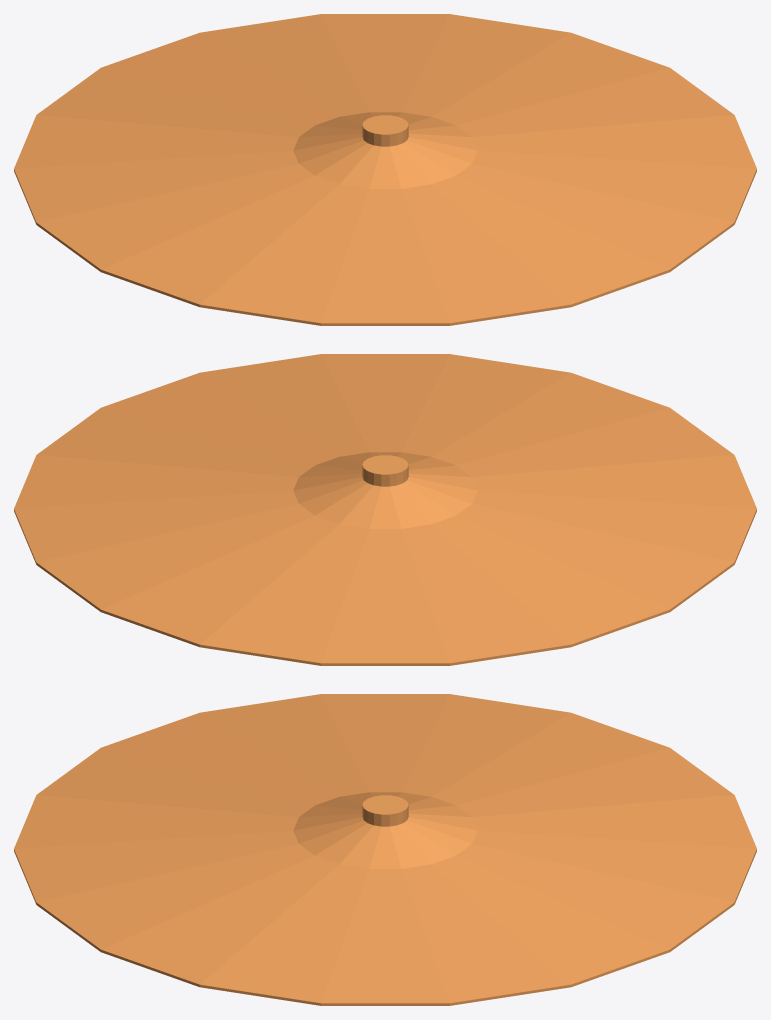
The picture shows the model from 3 angles, top to bottom: view 1: azimuth 30°, elevation 25°; view 2: azimuth 150°, elevation 25°; view 3: azimuth 270°, elevation 25°; orthographic projection.
Parts seen in each view (by area): view 1: Cylinder001; view 2: Cylinder001; view 3: Cylinder001.
Part boxes in pixels (left/top/right/bottom): Cylinder001: left=14, top=14, right=756, bottom=325; Cylinder001: left=14, top=354, right=756, bottom=665; Cylinder001: left=14, top=694, right=756, bottom=1005.
Size of the model in its own units: 1105036 by 77317 by 1122083.
